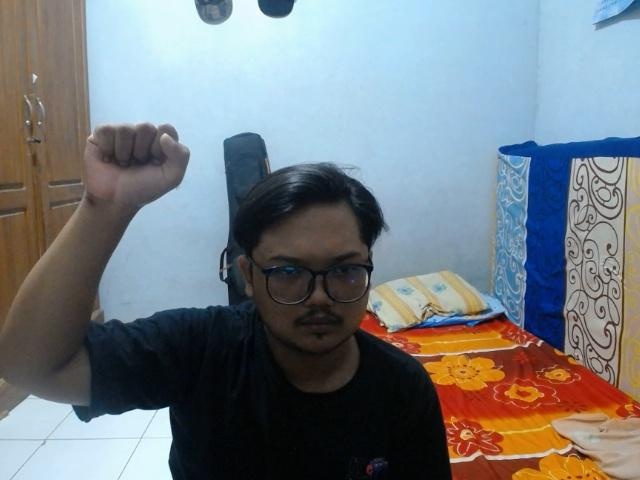Grab: (79, 119, 193, 221)
